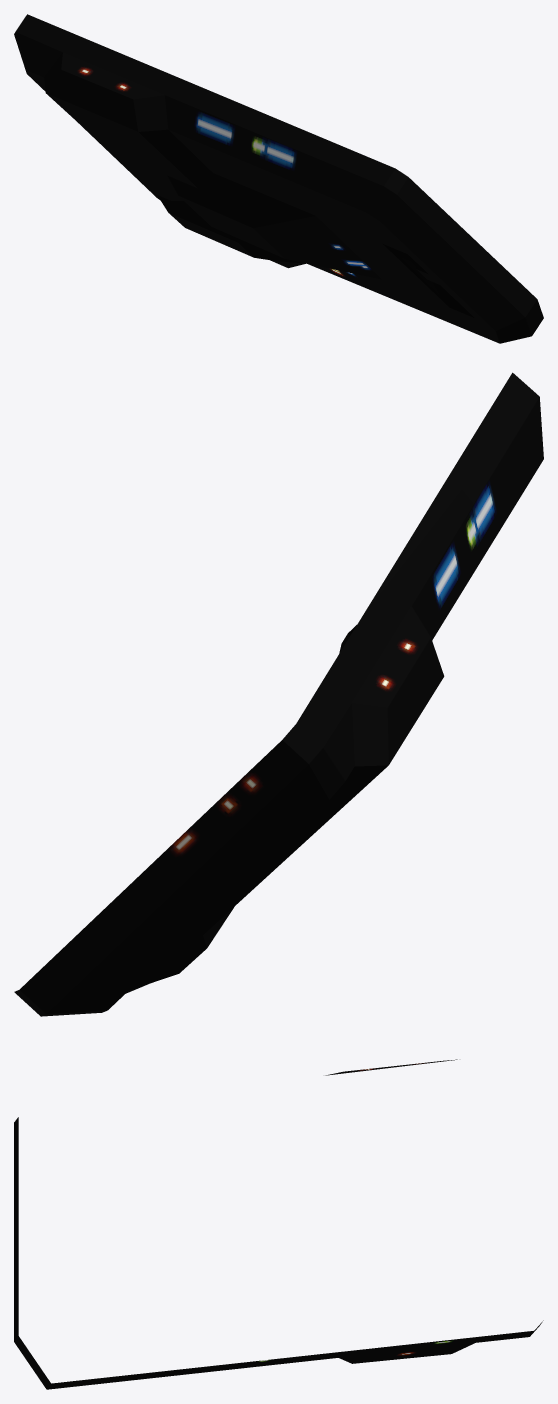
The model's file is hangar_hgn_explorer_03_enhanced_right.glb.
The picture shows the model from 3 angles, top to bottom: view 1: azimuth 30°, elevation 25°; view 2: azimuth 150°, elevation 25°; view 3: azimuth 270°, elevation 25°; orthographic projection. The views are drawn at different scales.
Parts seen in each view (by area): view 1: hgn_flagship_explorer_03_hangar_01_r; view 2: hgn_flagship_explorer_03_hangar_01_r; view 3: hgn_flagship_explorer_03_hangar_01_r.
Boxes of the visible parts, x1=… form: hgn_flagship_explorer_03_hangar_01_r: x1=14, y1=14, x2=543, y2=343; hgn_flagship_explorer_03_hangar_01_r: x1=14, y1=372, x2=543, y2=1016; hgn_flagship_explorer_03_hangar_01_r: x1=14, y1=1059, x2=543, y2=1389.
Bounding box in the file's own units: 1.08 × 0.7989 × 1.64.
1 material, 1 textured.
